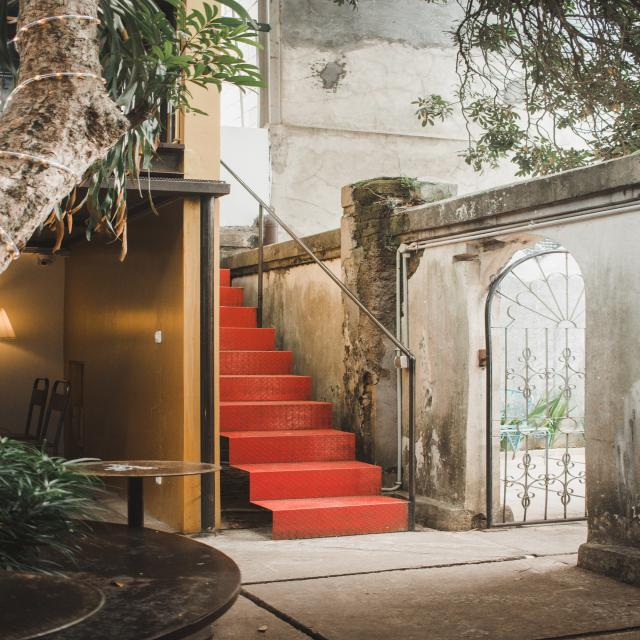Concrete: (229, 156, 640, 586)
